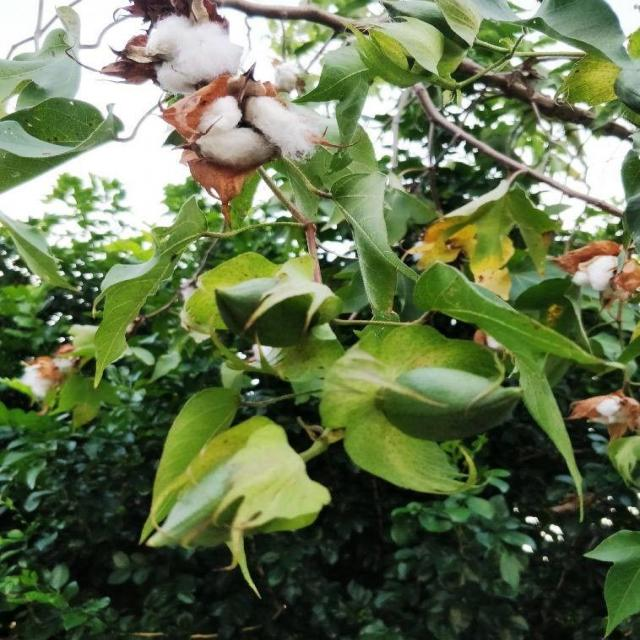Early_blight: (140, 67, 372, 236), (94, 9, 257, 100), (549, 232, 640, 306), (564, 387, 640, 436)
